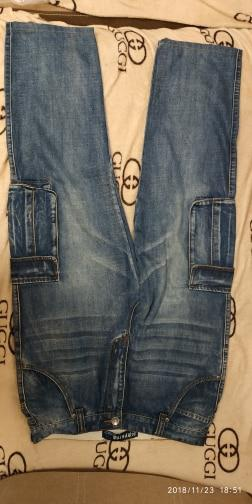jeans: (3, 16, 243, 441)
